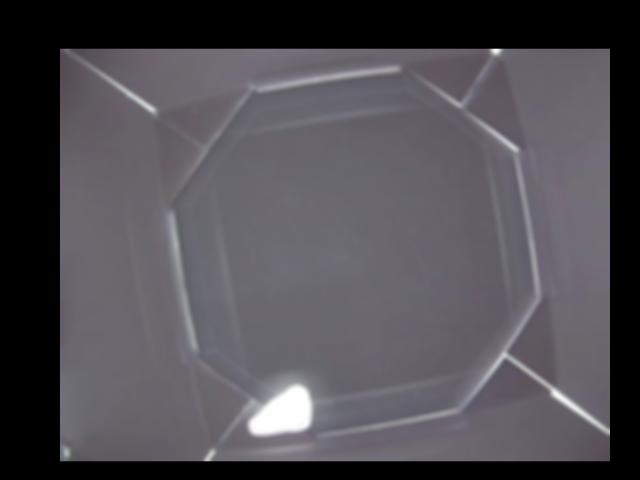Pebble: (249, 383, 313, 436)
